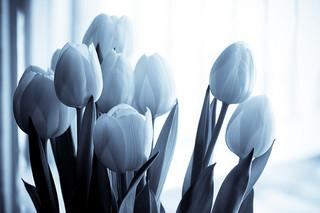tulip: (93, 102, 152, 172), (224, 94, 276, 158), (54, 42, 104, 108), (208, 41, 257, 103), (133, 53, 177, 118)
